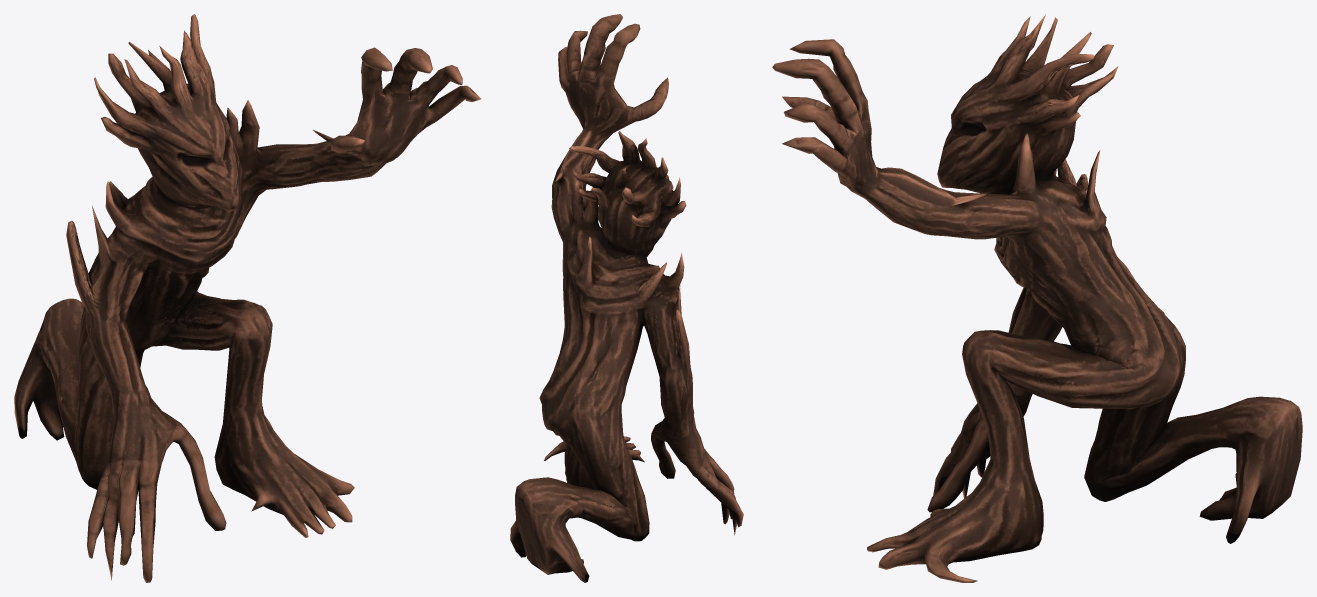
Rendered from Blight Twig.glb.
The picture shows the model from 3 angles, left to right: view 1: azimuth 30°, elevation 25°; view 2: azimuth 150°, elevation 25°; view 3: azimuth 270°, elevation 25°; orthographic projection. The views are drawn at different scales.
Visible parts, largest first — view 1: body_low.001; view 2: body_low.001; view 3: body_low.001.
Part boxes in pixels (<box>): body_low.001: <box>14,14,481,582</box>; body_low.001: <box>510,14,743,582</box>; body_low.001: <box>772,14,1302,582</box>.
Bounding box in the file's own units: 3.75 × 6.23 × 5.27.
1 material, 1 textured.
